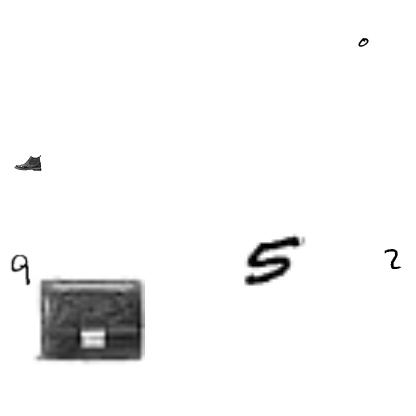0: (356, 35, 370, 49)
2: (379, 244, 407, 272)
5: (227, 216, 311, 300)
9: (0, 246, 42, 288)
Ankle_boot: (14, 149, 42, 177)
Bag: (33, 264, 145, 376)
